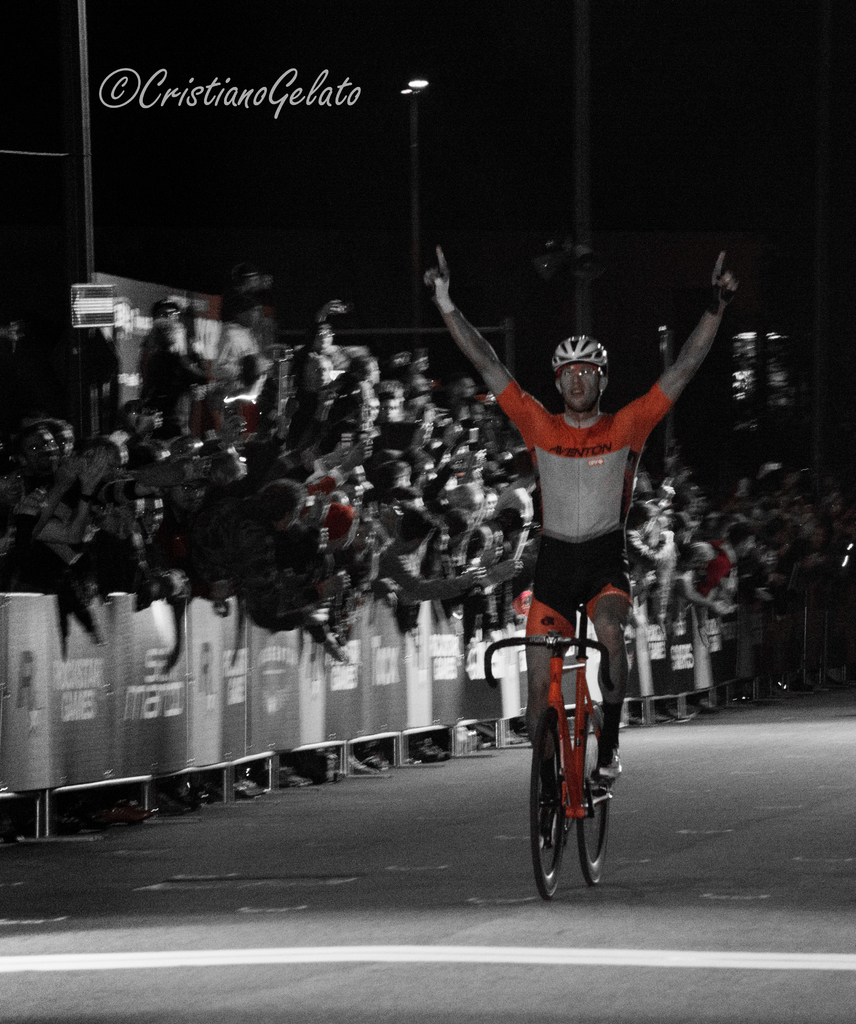Bike_toward: (481, 590, 639, 903)
